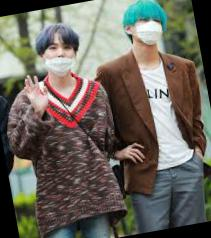mask_weared_incorrect: (47, 39, 74, 71)
with_mask: (136, 14, 163, 38)
